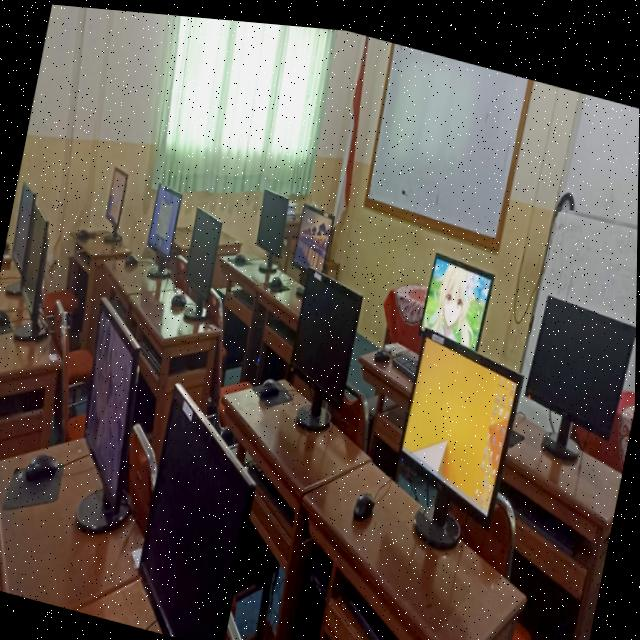offscreen: (140, 379, 256, 640), (526, 284, 637, 451), (290, 262, 364, 400), (184, 203, 223, 318), (256, 183, 289, 250)
onscreen: (401, 322, 523, 509), (85, 295, 140, 511), (420, 246, 495, 342), (292, 199, 335, 289), (148, 182, 182, 276), (105, 166, 129, 241)
